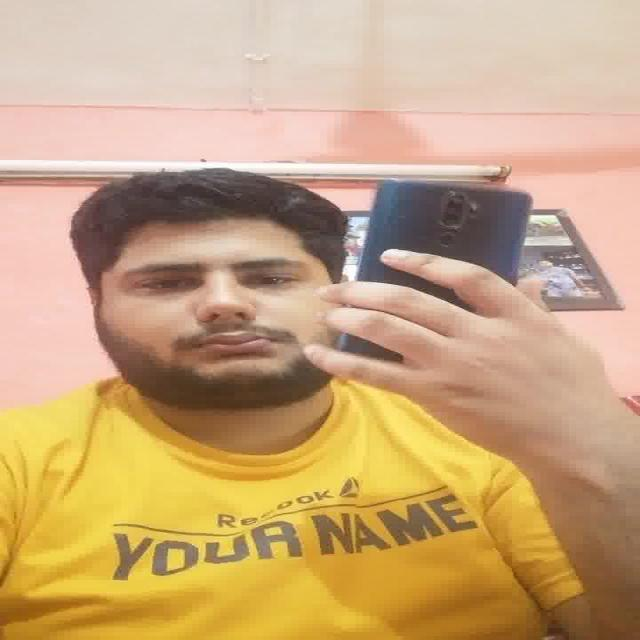Phone: (343, 178, 536, 367)
